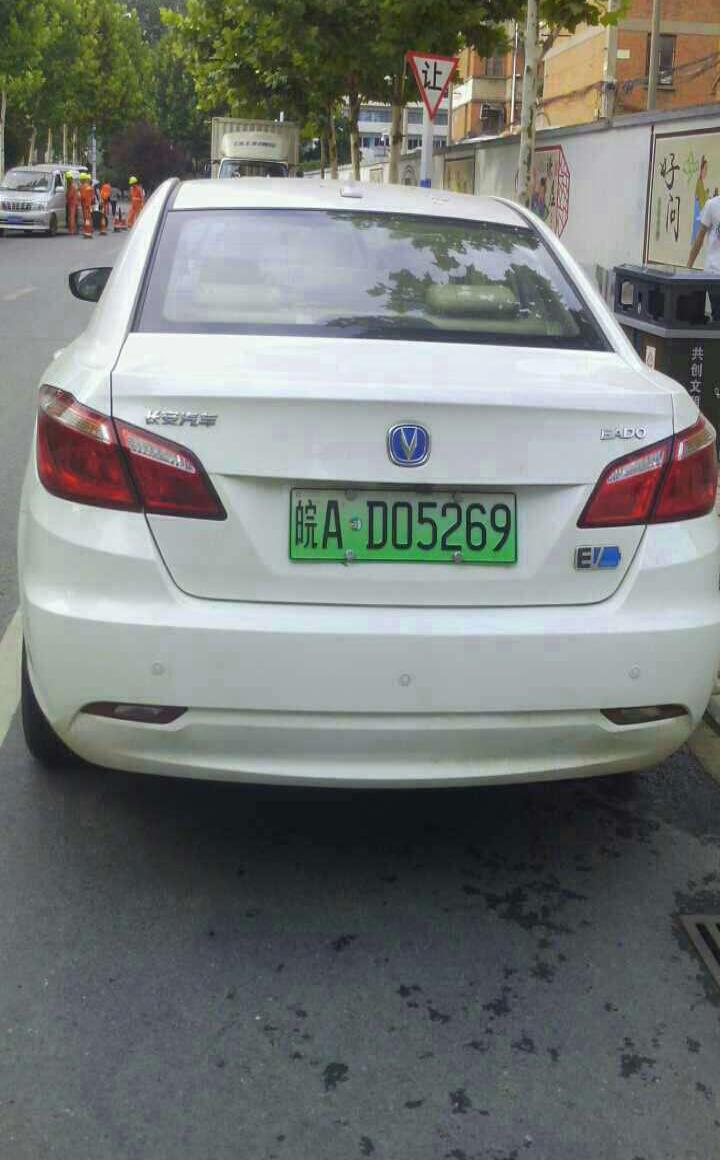car_id: (290, 486, 518, 573)
